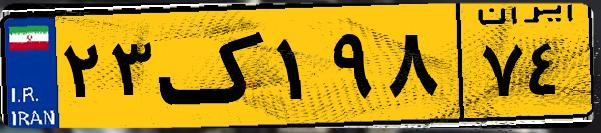1: (270, 28, 330, 110)
2: (57, 26, 110, 100)
3: (110, 28, 158, 98)
4: (525, 38, 570, 115)
7: (475, 38, 525, 113)
8: (385, 28, 445, 110)
9: (330, 28, 385, 110)
ک: (158, 12, 270, 120)
